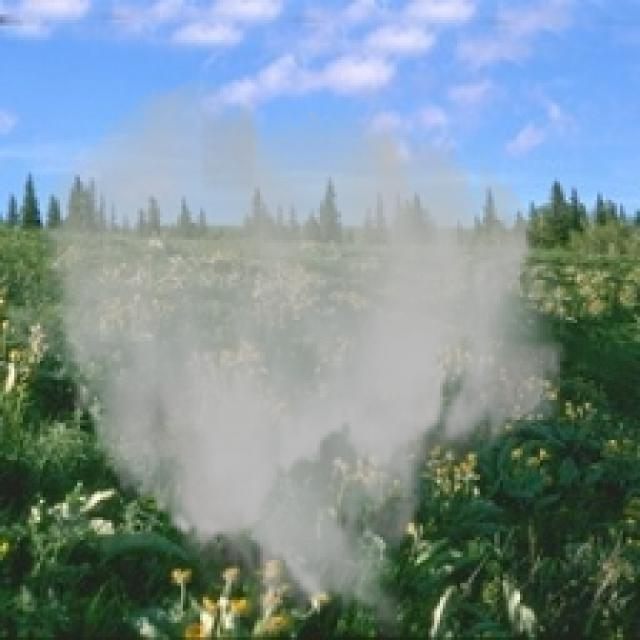Smoke: (6, 74, 574, 637)
